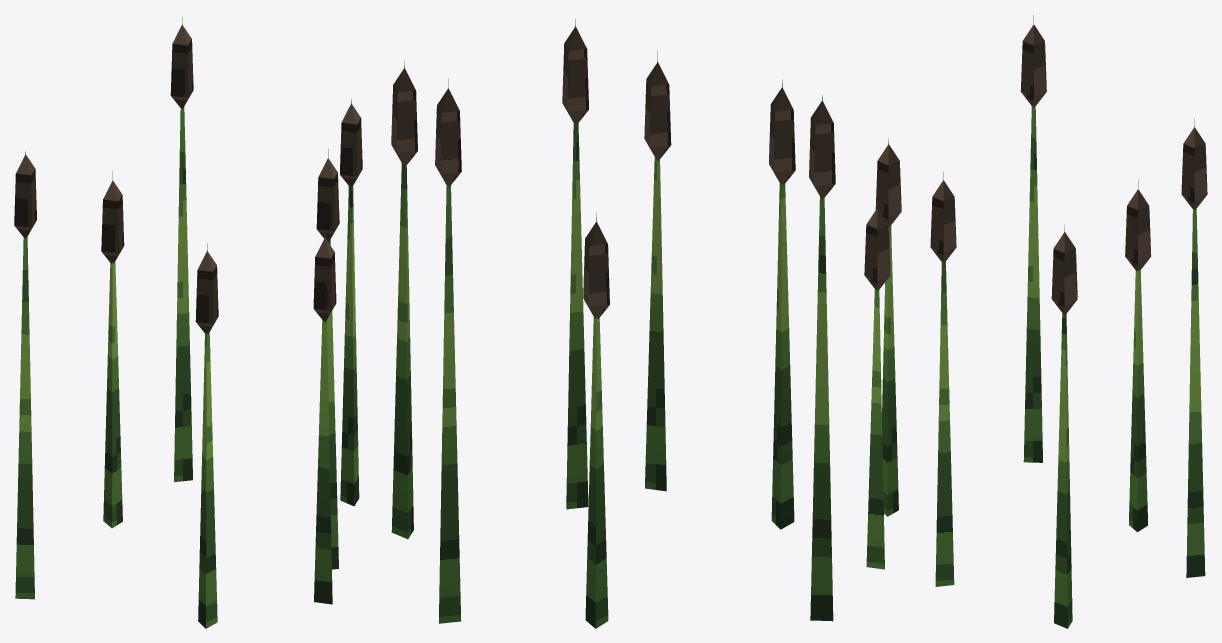
Rendered from mnat.flowers__reeds.glb.
3 renders of one model, left to right at view 1: azimuth 30°, elevation 25°; view 2: azimuth 150°, elevation 25°; view 3: azimuth 270°, elevation 25°, orthographic. The views are drawn at different scales.
Parts seen in each view (by area): view 1: kit_plants, kit_heads; view 2: kit_plants, kit_heads; view 3: kit_plants, kit_heads.
Boxes of the visible parts, x1,y1,x2,y2 form: kit_plants: (15, 17, 359, 628); kit_heads: (14, 24, 362, 334); kit_plants: (391, 19, 833, 628); kit_heads: (391, 26, 835, 319); kit_plants: (866, 15, 1205, 628); kit_heads: (864, 24, 1207, 314).
Size of the model in its own units: 1.11 by 1.35 by 0.9196.
2 materials, 2 textured.
